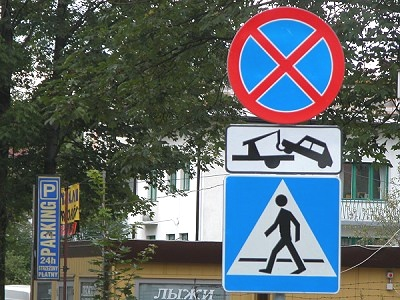no_stopping_sign: (226, 6, 345, 124)
